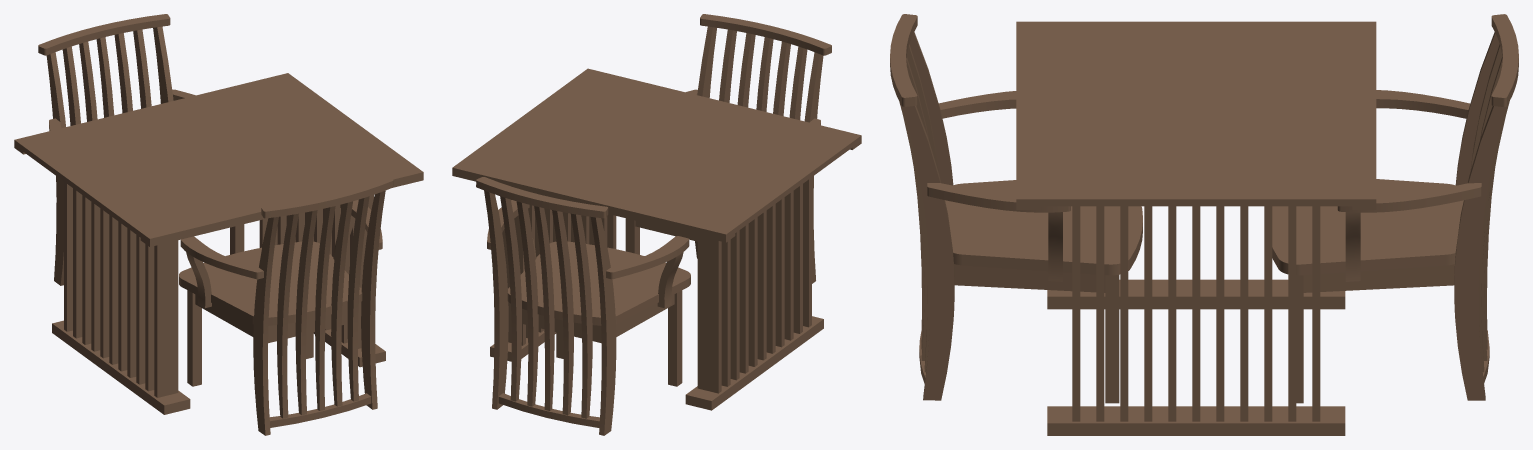
Rendered from 533_ダイニングテーブルセット2人掛け.glb.
3 views of the same model, side by side, from view 1: azimuth 30°, elevation 25°; view 2: azimuth 150°, elevation 25°; view 3: azimuth 270°, elevation 25° (orthographic). The views are drawn at different scales.
Visible parts, largest first — view 1: Body, chair2, chair1; view 2: Body, chair1, chair2; view 3: Body, chair1, chair2.
Part boxes in pixels (left/top/right/bottom): Body: left=14, top=73, right=423, bottom=414; chair2: left=179, top=177, right=393, bottom=435; chair1: left=38, top=14, right=244, bottom=285; Body: left=452, top=68, right=861, bottom=410; chair1: left=476, top=177, right=690, bottom=435; chair2: left=625, top=14, right=831, bottom=283; Body: left=1016, top=21, right=1376, bottom=435; chair1: left=1272, top=14, right=1518, bottom=403; chair2: left=890, top=14, right=1142, bottom=403.
Bounding box in the file's own units: 1.05 × 0.85 × 1.57.
